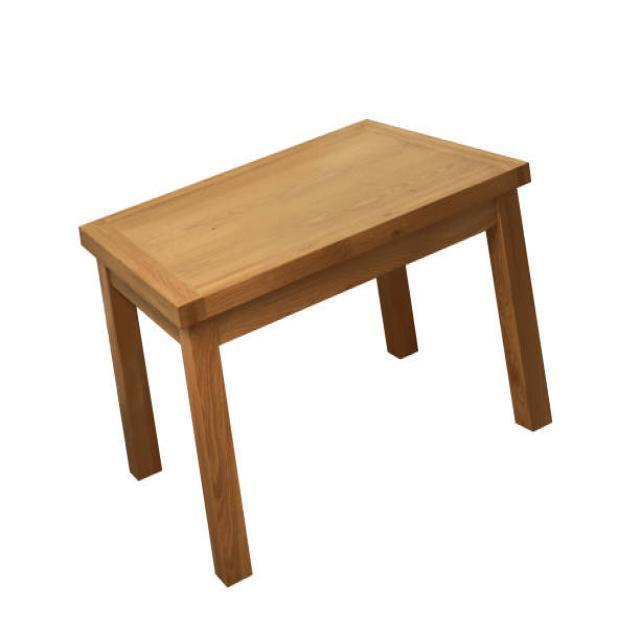table: (78, 116, 552, 587)
